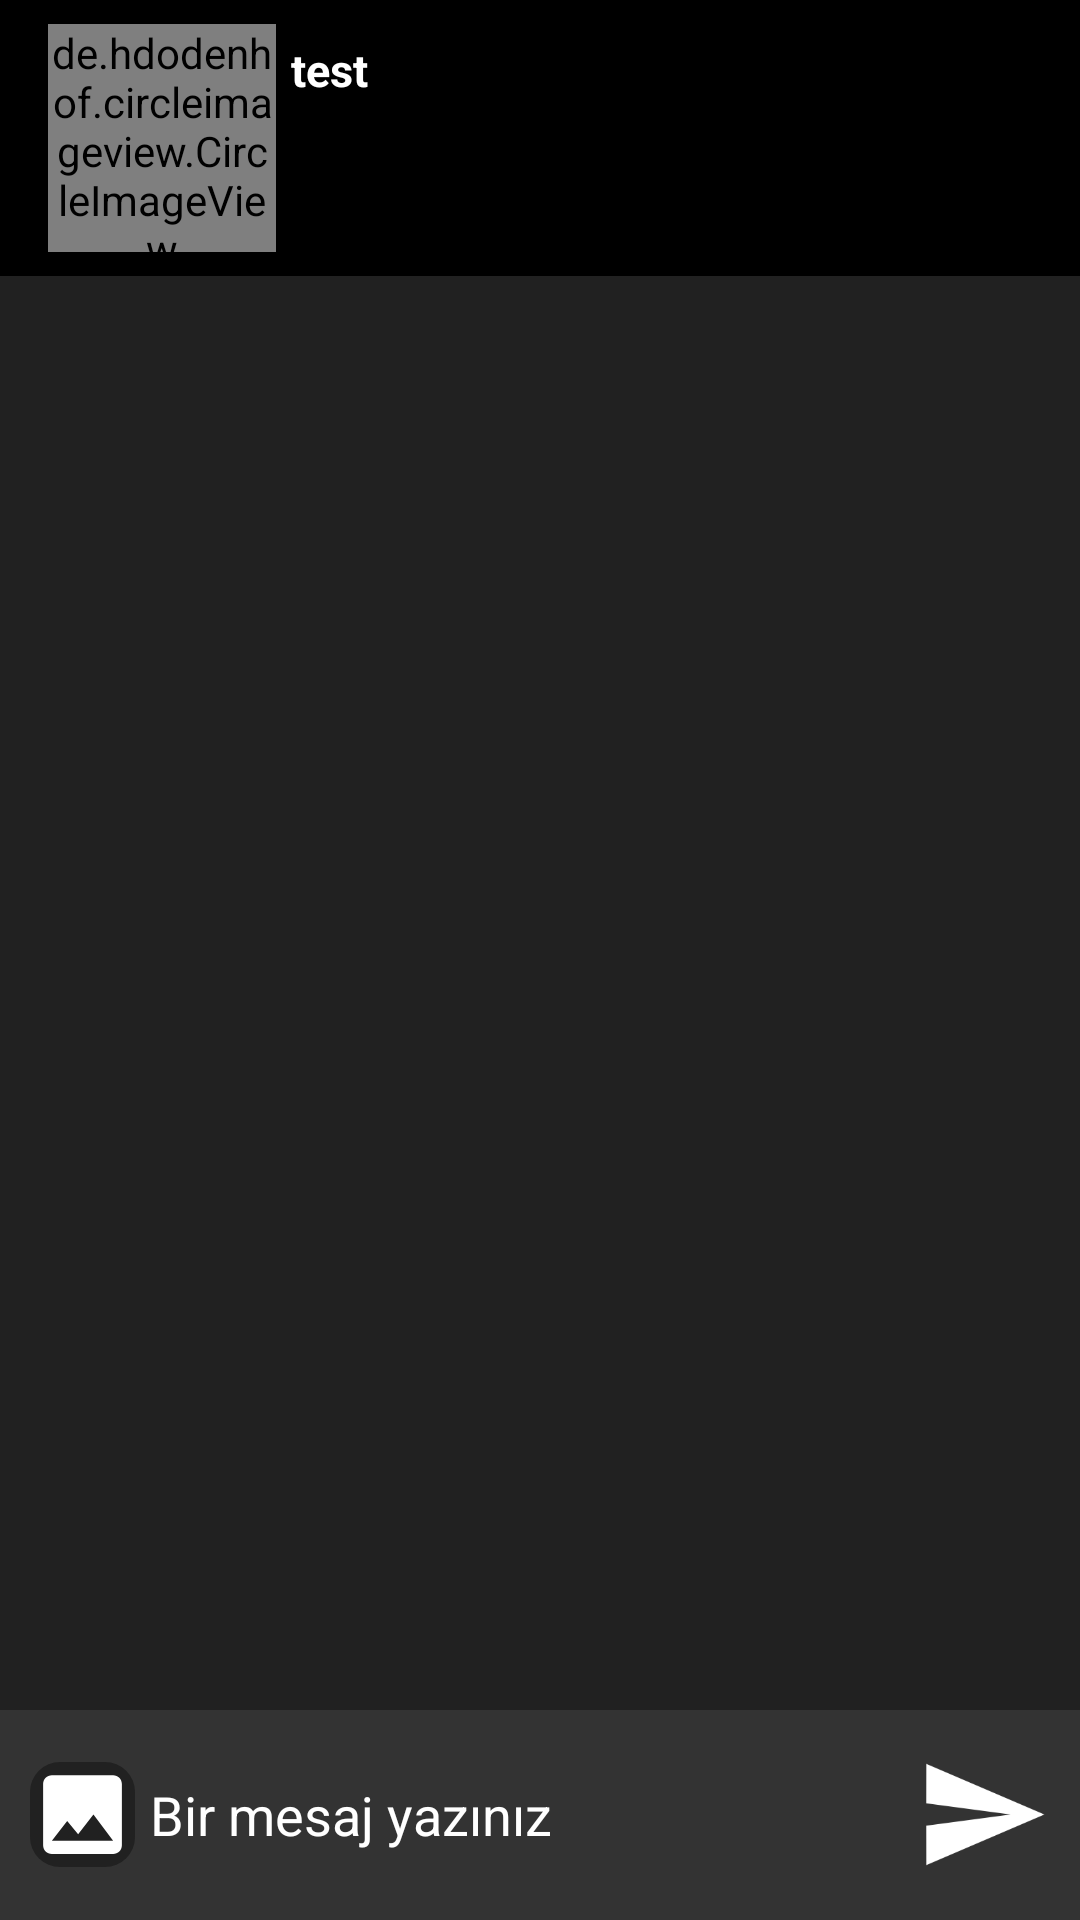

Icons on this 1080*1920 Android screen, each with the point to tap as (x=x, y=y):
galeri: (x=82, y=1814)
send: (x=985, y=1814)
